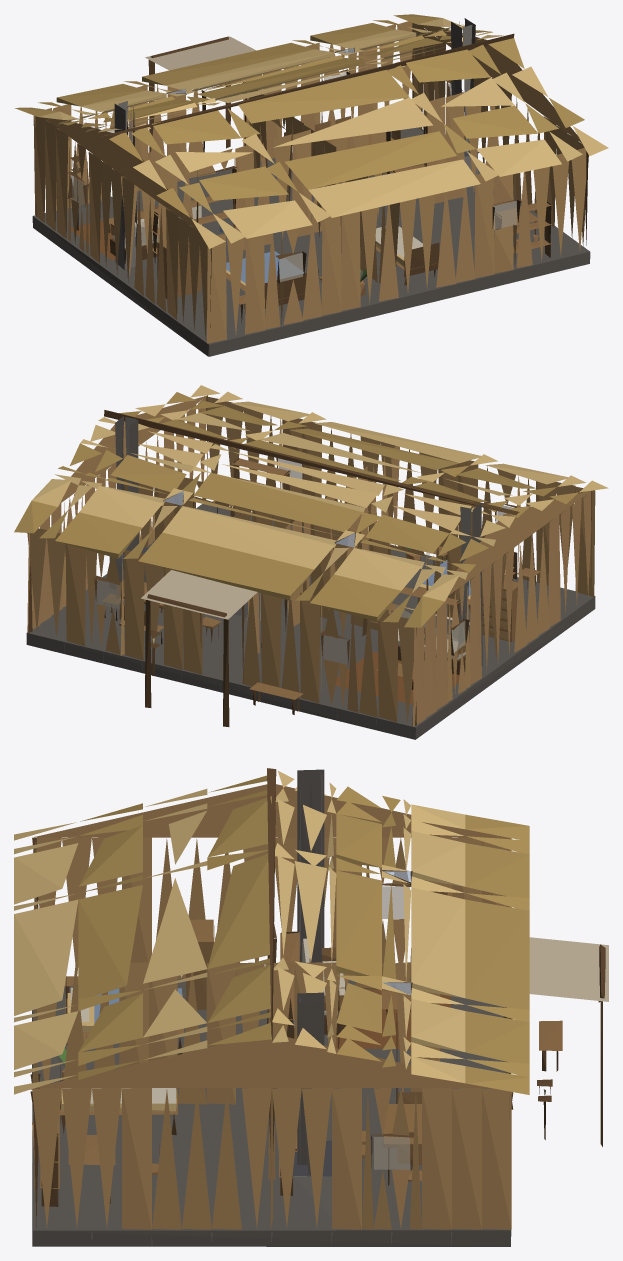
Rendered from SM_CASA_03_CASONA_MEDIA.glb.
3 views of the same model, one above another, from view 1: azimuth 30°, elevation 25°; view 2: azimuth 150°, elevation 25°; view 3: azimuth 270°, elevation 25° (orthographic). The views are drawn at different scales.
Parts seen in each view (by area): view 1: SM_Techo_Izq, SM_Pared_Norte, SM_Cimiento, SM_Pared_Oeste, SM_Techo_Der, SM_Pared_Sur, SM_Pared_Este, SM_Pared_Interior_2, SM_Pared_Interior_3, SM_Pared_Interior_1, SM_Cama_Doble, SM_Taller (+7 smaller); view 2: SM_Techo_Der, SM_Pared_Sur, SM_Cimiento, SM_Pared_Oeste, SM_Techo_Izq, SM_Pared_Norte, SM_Portico, SM_Pared_Este, SM_Pared_Interior_2, SM_Cumbrera, SM_Pared_Interior_1, SM_Pared_Interior_3 (+8 smaller); view 3: SM_Pared_Este, SM_Techo_Der, SM_Techo_Izq, SM_Cimiento, SM_Pared_Oeste, SM_Pared_Interior_1, SM_Portico, SM_Chimenea_1, SM_Cama_Doble, SM_Taller, SM_Cocina_Completa, SM_Mesa_Comedor (+7 smaller).
Part boxes in pixels (x1=…): SM_Techo_Izq: x1=109, y1=38, x2=608, y2=248; SM_Pared_Norte: x1=207, y1=147, x2=588, y2=343; SM_Cimiento: x1=32, y1=127, x2=590, y2=356; SM_Pared_Oeste: x1=33, y1=115, x2=211, y2=338; SM_Techo_Der: x1=15, y1=14, x2=507, y2=135; SM_Pared_Sur: x1=34, y1=21, x2=413, y2=216; SM_Pared_Este: x1=412, y1=23, x2=588, y2=246; SM_Pared_Interior_2: x1=121, y1=129, x2=311, y2=276; SM_Pared_Interior_3: x1=312, y1=92, x2=498, y2=232; SM_Pared_Interior_1: x1=249, y1=90, x2=399, y2=283; SM_Cama_Doble: x1=157, y1=237, x2=367, y2=322; SM_Taller: x1=375, y1=202, x2=551, y2=285; SM_Techo_Der: x1=14, y1=417, x2=515, y2=627; SM_Pared_Sur: x1=27, y1=528, x2=416, y2=726; SM_Cimiento: x1=26, y1=504, x2=595, y2=739; SM_Pared_Oeste: x1=413, y1=490, x2=592, y2=726; SM_Techo_Izq: x1=119, y1=385, x2=608, y2=517; SM_Pared_Norte: x1=204, y1=396, x2=595, y2=596; SM_Portico: x1=141, y1=570, x2=303, y2=726; SM_Pared_Este: x1=27, y1=395, x2=207, y2=632; SM_Pared_Interior_2: x1=310, y1=521, x2=506, y2=657; SM_Cumbrera: x1=104, y1=410, x2=519, y2=515; SM_Pared_Interior_1: x1=247, y1=446, x2=399, y2=653; SM_Pared_Interior_3: x1=124, y1=477, x2=306, y2=605; SM_Pared_Este: x1=32, y1=1034, x2=511, y2=1229; SM_Techo_Der: x1=272, y1=771, x2=529, y2=1094; SM_Techo_Izq: x1=14, y1=775, x2=271, y2=1094; SM_Cimiento: x1=32, y1=978, x2=511, y2=1246; SM_Pared_Oeste: x1=32, y1=784, x2=511, y2=979; SM_Pared_Interior_1: x1=36, y1=962, x2=439, y2=1104; SM_Portico: x1=529, y1=937, x2=608, y2=1146; SM_Chimenea_1: x1=297, y1=769, x2=324, y2=962; SM_Cama_Doble: x1=56, y1=919, x2=214, y2=1080; SM_Taller: x1=40, y1=1066, x2=177, y2=1206; SM_Cocina_Completa: x1=279, y1=1132, x2=331, y2=1219; SM_Mesa_Comedor: x1=362, y1=1092, x2=421, y2=1185.
Size of the model in its own units: 10.6 by 4.29 by 9.92.
